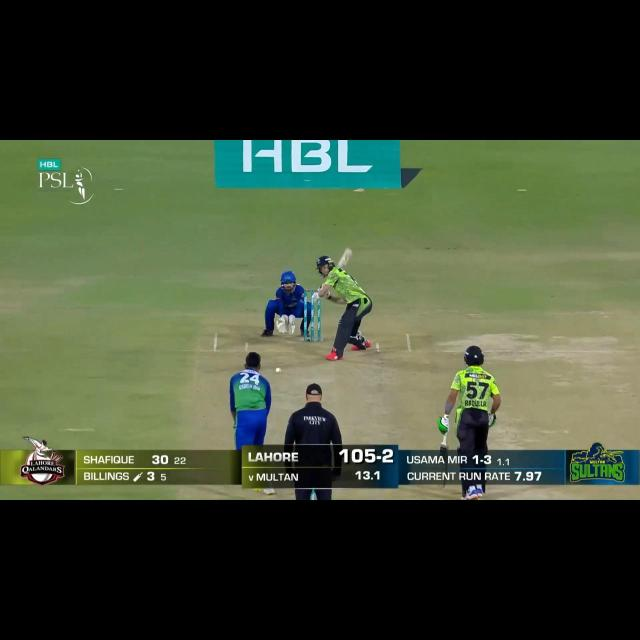bat: (339, 243, 355, 268)
toe: (342, 247, 356, 258), (437, 481, 447, 489)
